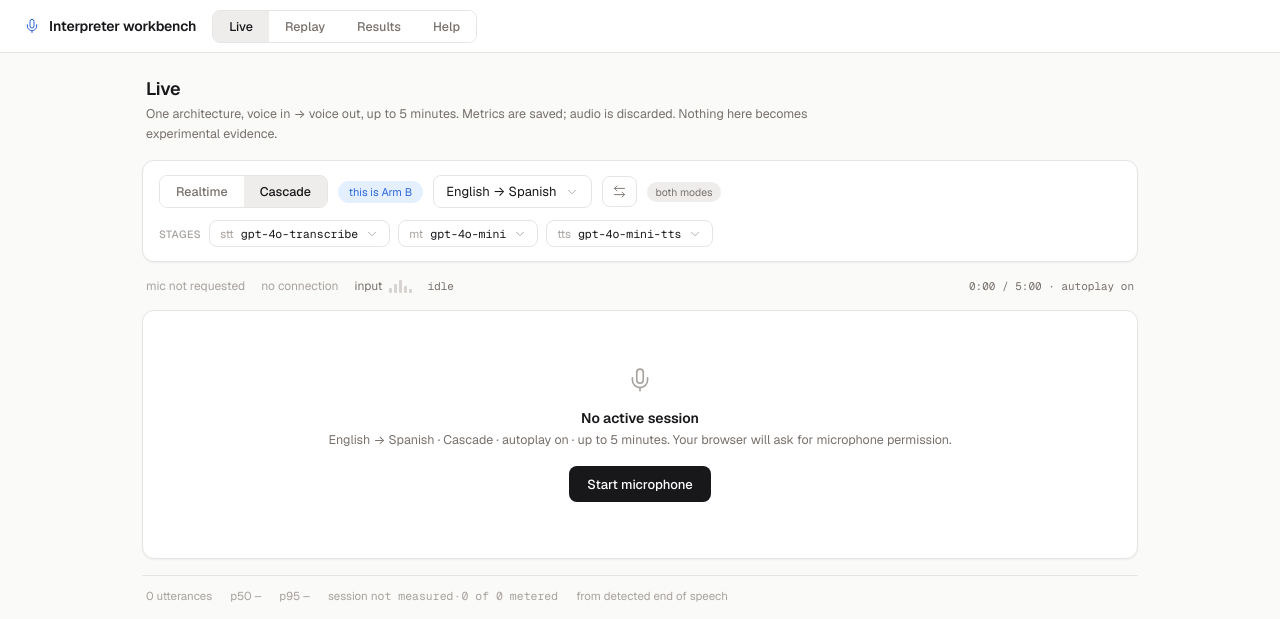
failure copy differs by architecture › cascade names the failing stage; the session keeps running
This screenshot has width=1280, height=619.
Click the button "Start microphone": (640, 484) [569,466,711,502]
Wait 400 ms
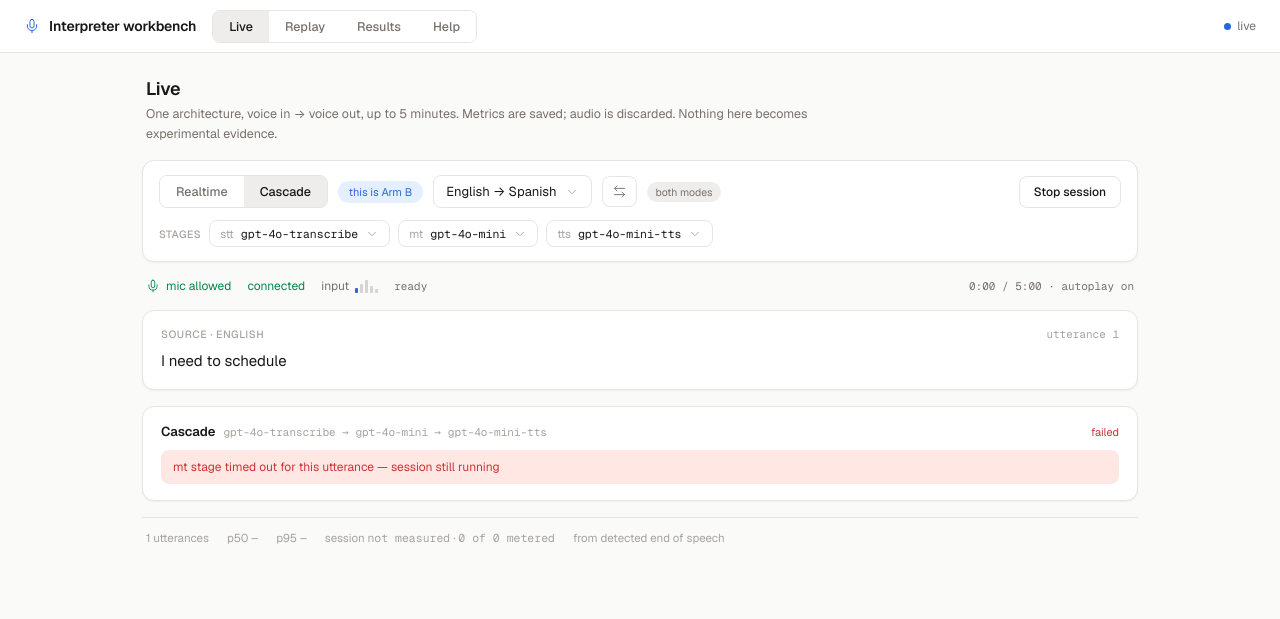
Expected: the element that starts with "Cascade" shows "mt stage timed out for this utterance — session still running", [173,459,500,475]
Expected: the text "connected" is shown, [247,278,305,294]
Expected: the button "Stop session" is shown, [1019,176,1121,208]
